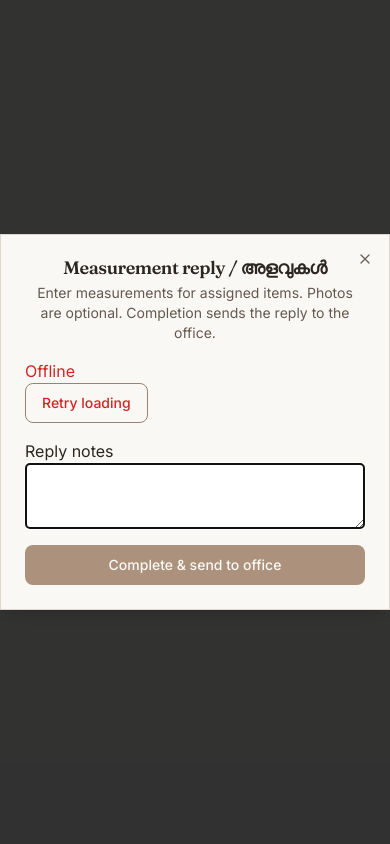
Test case: Measurement reply recovery › retries a failed load and blocks completion until all items load
Expected: the text "Offline" is shown, [25, 361, 75, 381]
Expected: the button "Complete & send to office" is disabled, [25, 545, 365, 585]
Click the button "Retry loading": (86, 403) [25, 383, 148, 423]
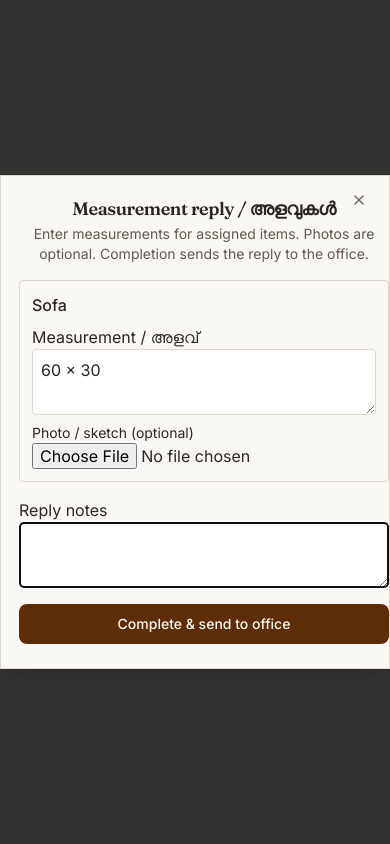
Expected: the text "Sofa" is shown, [32, 295, 67, 315]
Expected: the button "Complete & send to office" is enabled, [19, 604, 389, 644]
